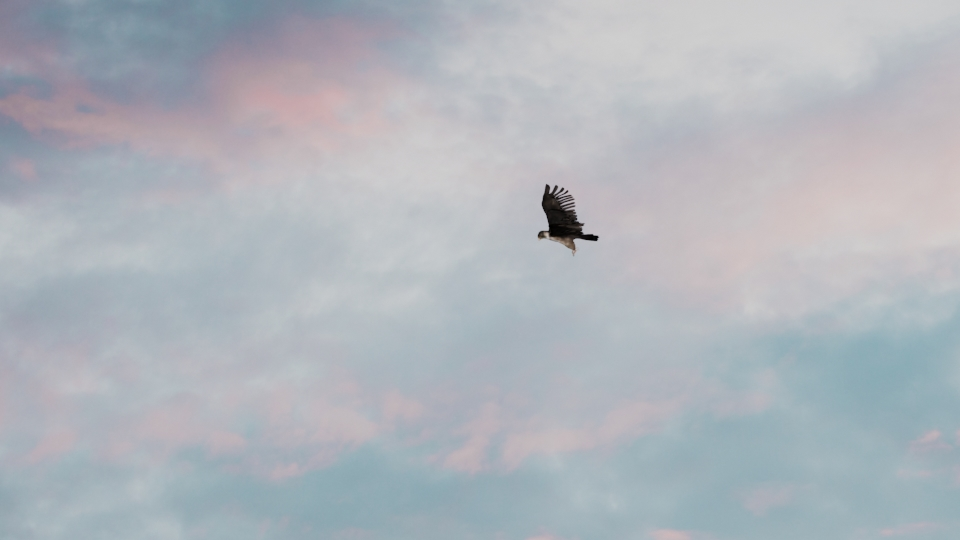bird: (536, 182, 599, 256)
